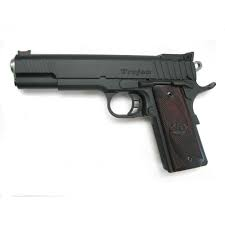weapon: (14, 17, 225, 185)
